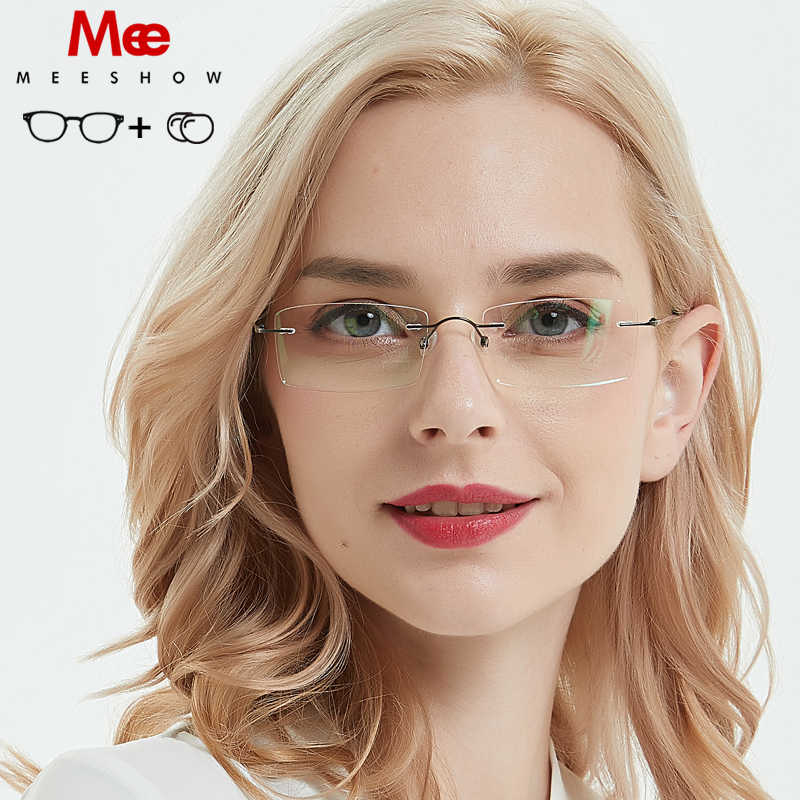llen: (480, 297, 638, 388)
rlen: (272, 302, 430, 394)
